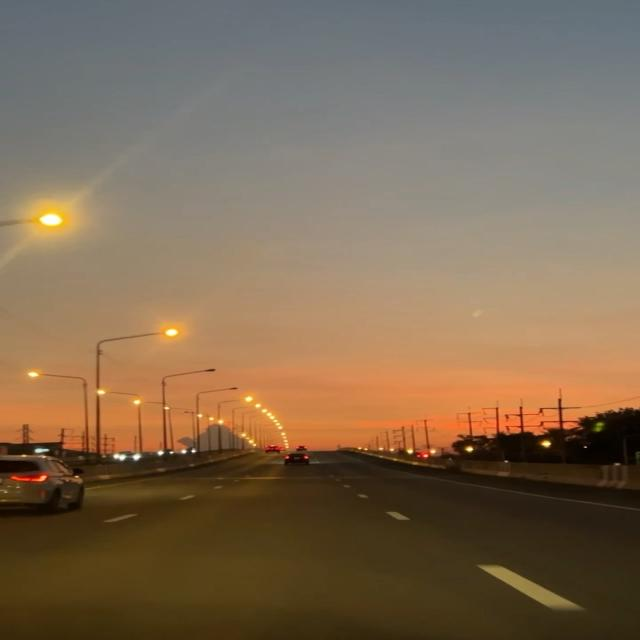Poth-hole: (92, 479, 409, 605)
